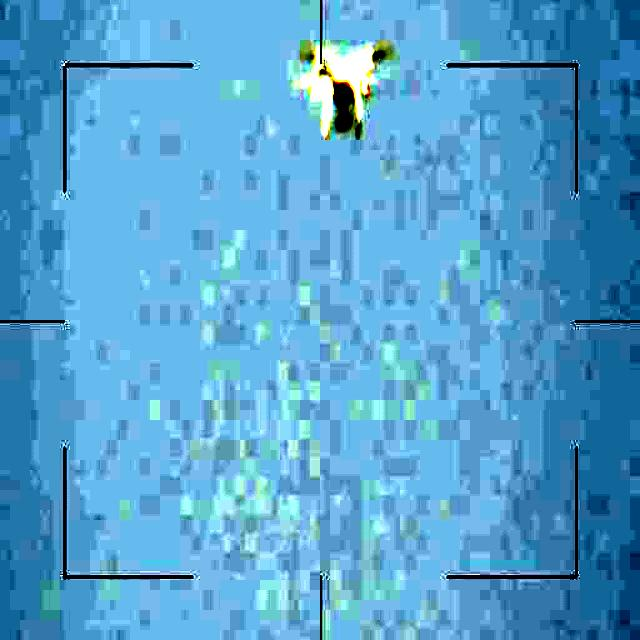bird: (296, 48, 386, 136)
